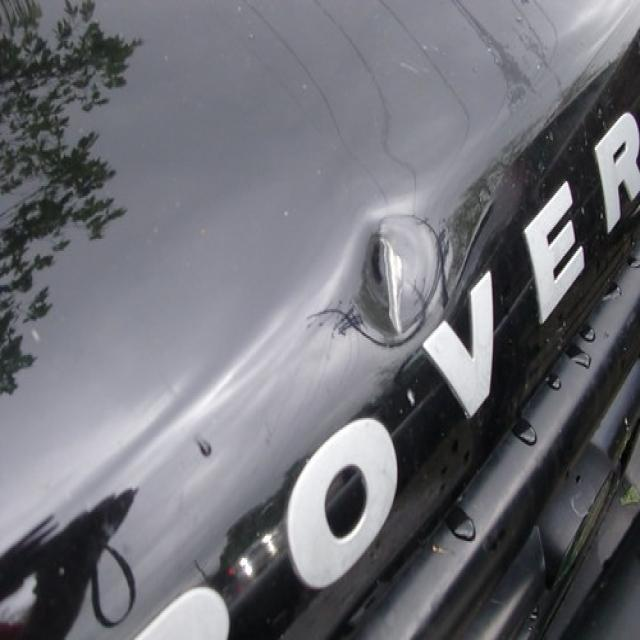dent: (324, 199, 455, 362)
